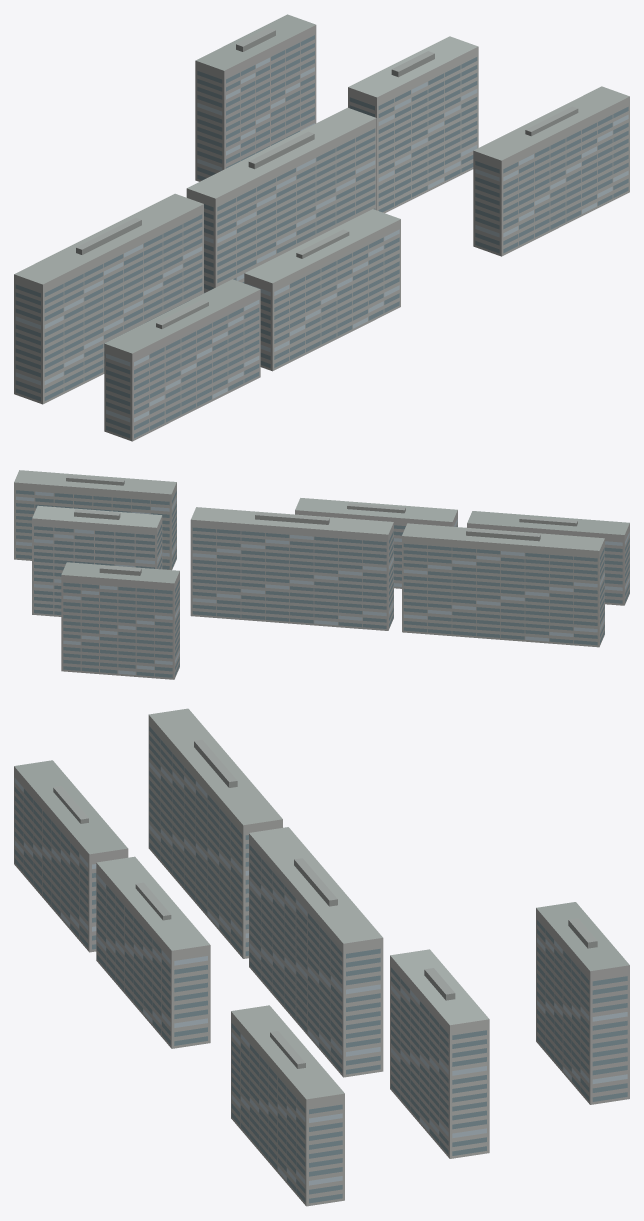
Rendered from apt-a13588402.glb.
The picture shows the model from 3 angles, top to bottom: view 1: azimuth 30°, elevation 25°; view 2: azimuth 150°, elevation 25°; view 3: azimuth 270°, elevation 25°; orthographic projection. The views are drawn at different scales.
Parts seen in each view (by area): view 1: apt-a13588402; view 2: apt-a13588402; view 3: apt-a13588402.
Boxes of the visible parts, x1,y1,x2,y2 form: apt-a13588402: (14, 14, 629, 441); apt-a13588402: (14, 470, 629, 679); apt-a13588402: (14, 708, 629, 1206).
Size of the model in its own units: 267 by 47.81 by 191.
